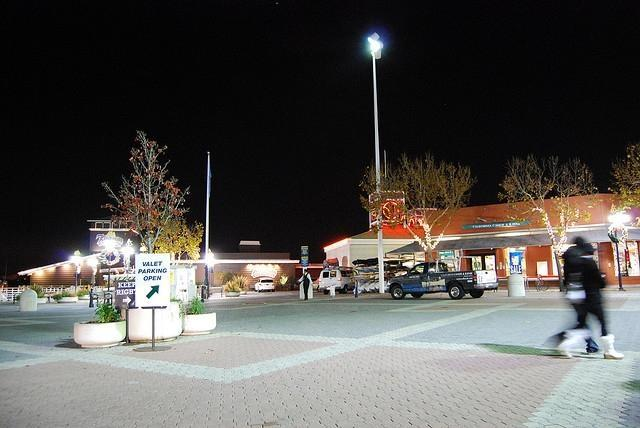car: (254, 278, 275, 292)
truck: (384, 261, 498, 300), (316, 266, 355, 296)
